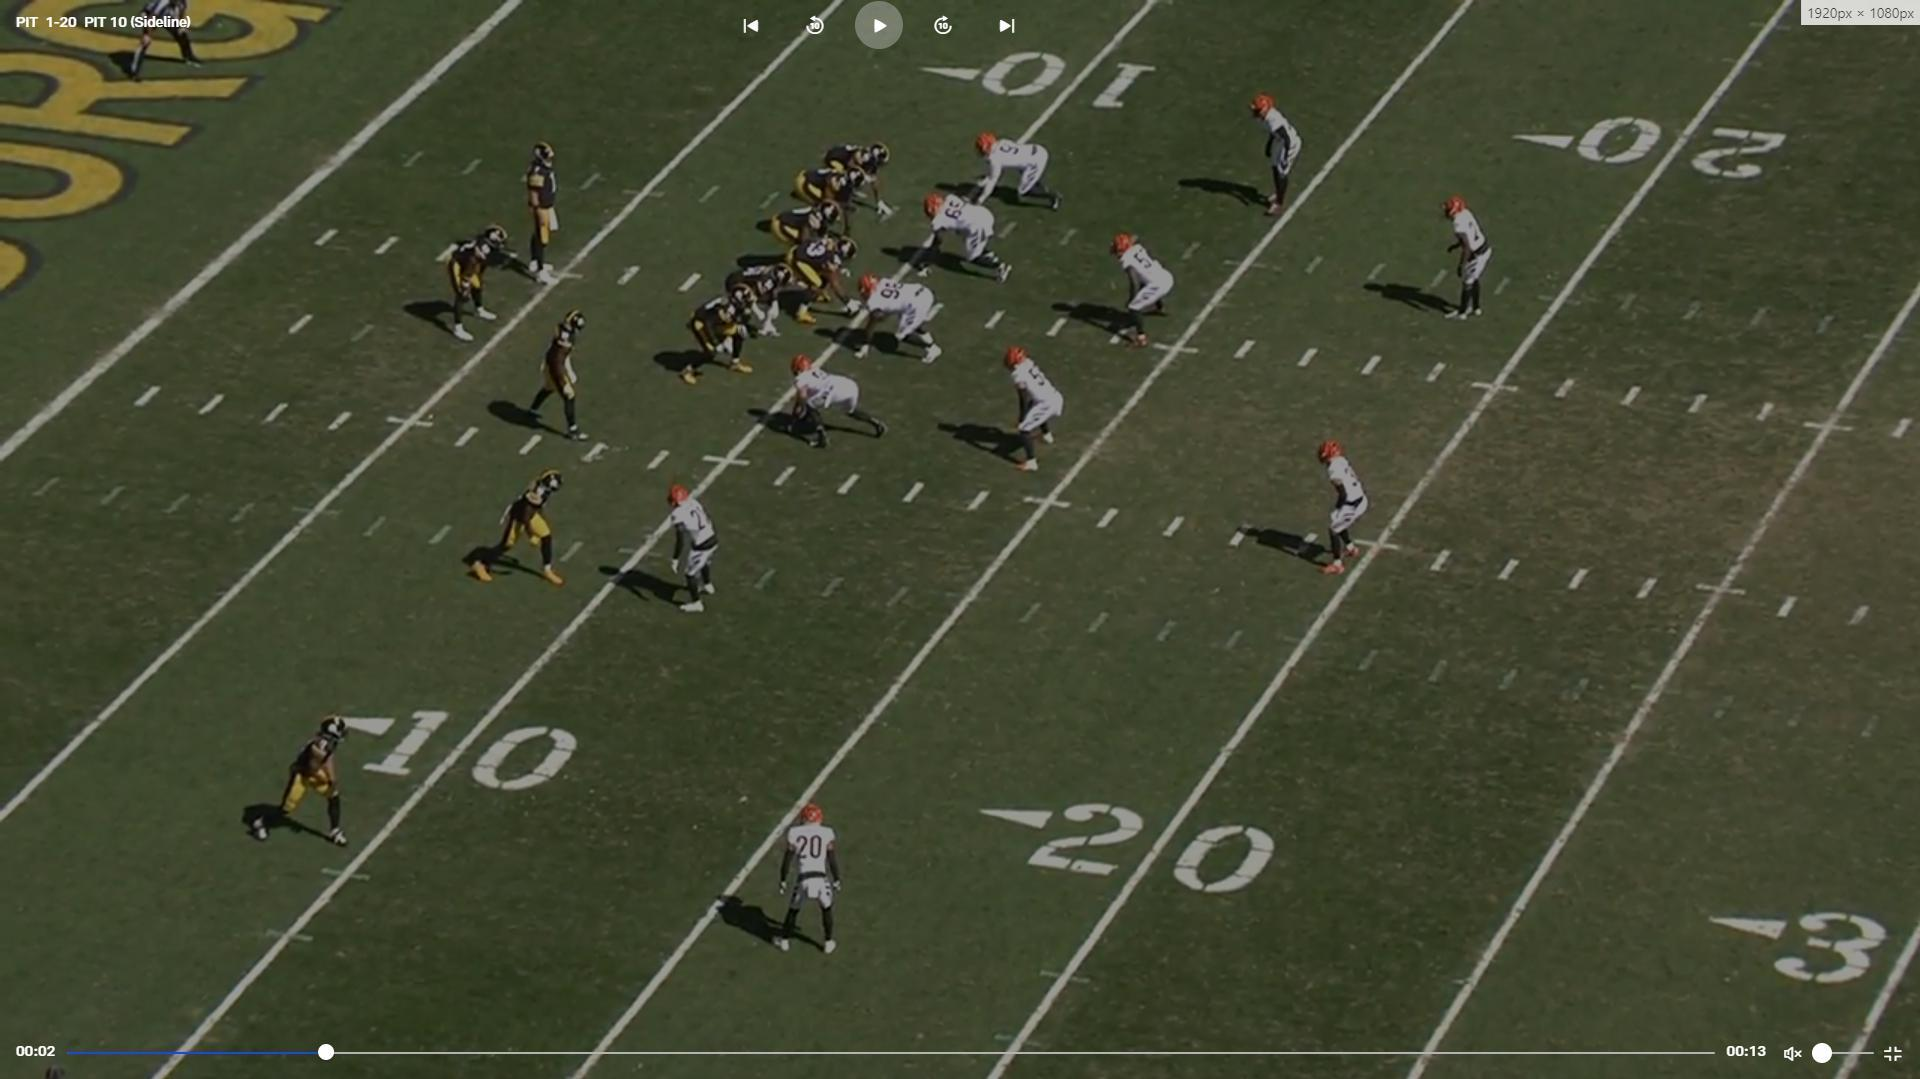player: (236, 712, 353, 857), (466, 461, 572, 594), (772, 796, 850, 959), (779, 358, 892, 453), (523, 306, 594, 444), (914, 189, 1009, 284), (845, 275, 941, 368), (440, 224, 508, 349), (662, 478, 721, 622), (1005, 347, 1068, 480), (681, 288, 762, 391), (1111, 231, 1176, 352), (1320, 436, 1374, 579), (976, 130, 1066, 211), (1250, 90, 1304, 222), (527, 141, 574, 289), (788, 234, 866, 316), (815, 139, 895, 218), (1447, 192, 1492, 327), (720, 259, 793, 341), (793, 160, 879, 229), (763, 203, 839, 248)
ref: (131, 0, 203, 73)
